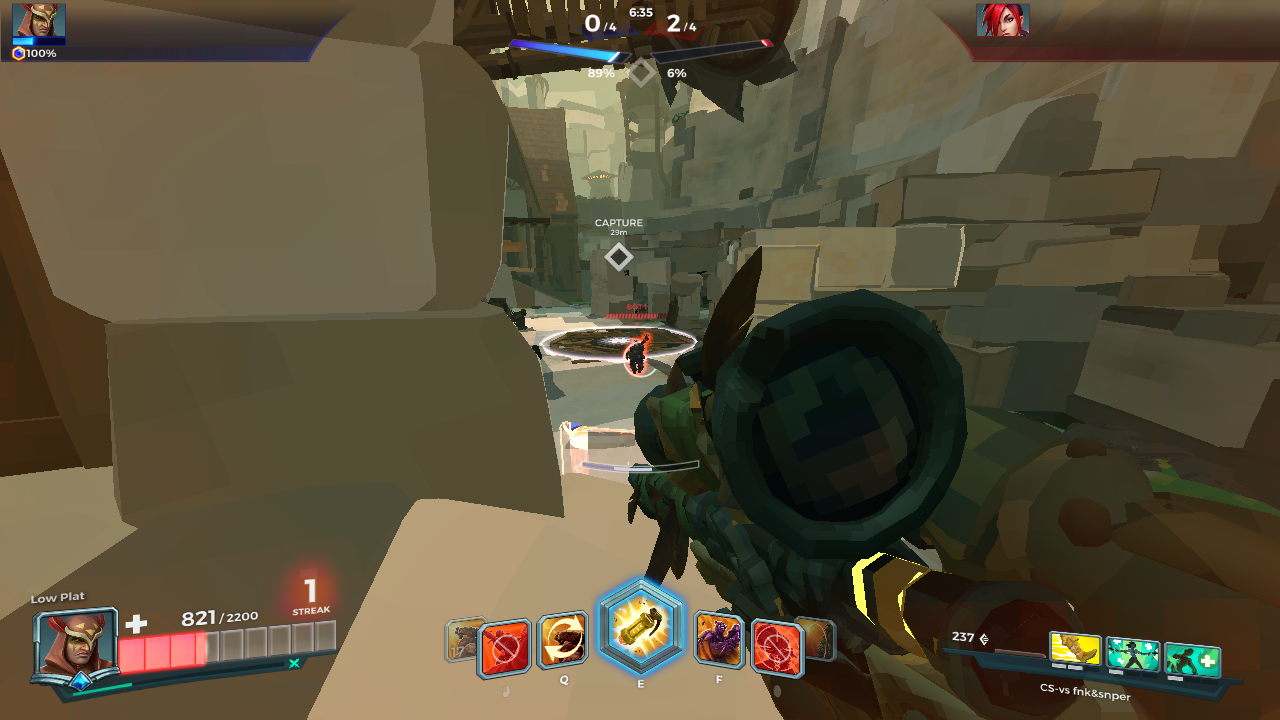model: (627, 330, 657, 377)
